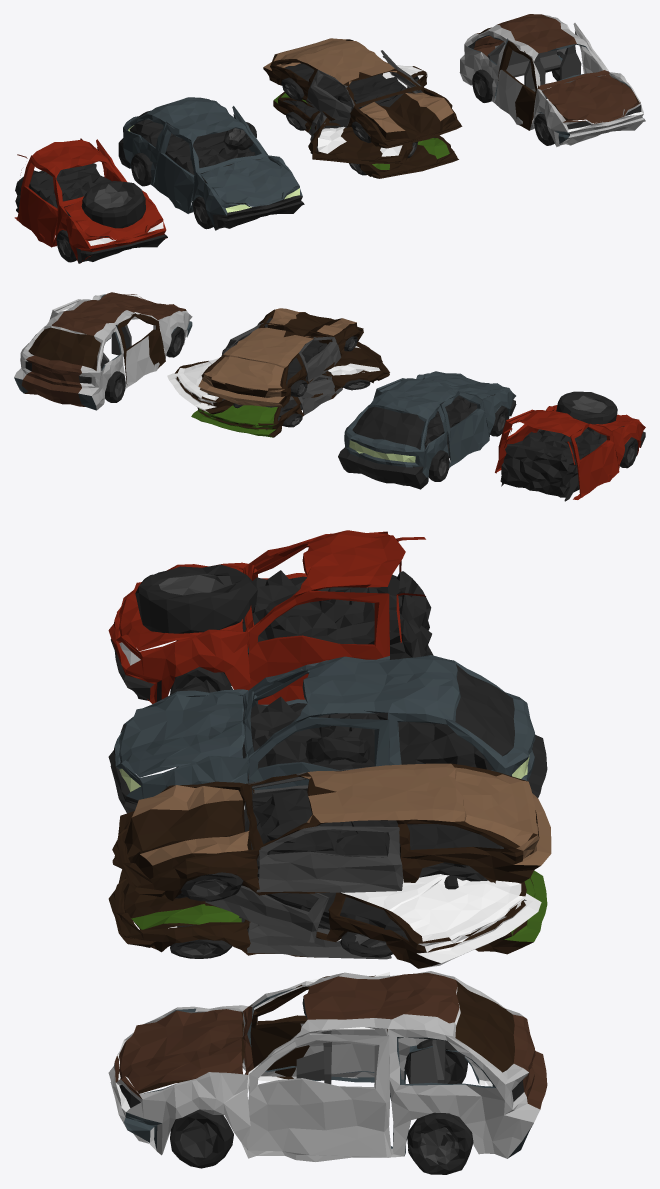
Rendered from new_Cars.fbx.
The picture shows the model from 3 angles, top to bottom: view 1: azimuth 30°, elevation 25°; view 2: azimuth 150°, elevation 25°; view 3: azimuth 270°, elevation 25°; orthographic projection. The views are drawn at different scales.
Parts seen in each view (by area): view 1: Cube.023, Cube, Cube.012, Cube.019, Cube.022, Cube.003, Cube.015, Cube.021, Cube.001, Cylinder.023, Cube.017, Cube.002 (+17 smaller); view 2: Cube.023, Cube, Cube.012, Cube.016, Cube.017, Cube.008, Cube.004, Cube.019, Cube.021, Cube.002, Cylinder.023, Cube.015 (+14 smaller); view 3: Cube.023, Cube.012, Cube, Cube.021, Cube.019, Cube.008, Cube.016, Cube.015, Cube.003, Cube.022, Cube.013, Cube.014 (+18 smaller).
Part boxes in pixels (x1,y1,x2,y2): Cube.023: (459, 14, 645, 147); Cube: (118, 97, 304, 230); Cube.012: (263, 38, 462, 148); Cube.019: (14, 138, 167, 263); Cube.022: (542, 74, 639, 123); Cube.003: (201, 157, 297, 206); Cube.015: (359, 92, 454, 139); Cube.021: (494, 23, 608, 130); Cube.001: (129, 119, 259, 204); Cylinder.023: (81, 181, 145, 228); Cube.017: (16, 139, 127, 247); Cube.002: (153, 106, 266, 213); Cube.023: (14, 294, 192, 410); Cube: (338, 373, 516, 489); Cube.012: (198, 309, 363, 407); Cube.016: (500, 428, 606, 501); Cube.017: (495, 409, 619, 497); Cube.008: (167, 341, 389, 414); Cube.004: (191, 387, 342, 437); Cube.019: (504, 405, 645, 499); Cube.021: (49, 299, 165, 387); Cube.002: (373, 378, 489, 465); Cylinder.023: (556, 391, 617, 430); Cube.015: (267, 308, 357, 344); Cube.023: (108, 971, 547, 1161); Cube.012: (112, 763, 551, 900); Cube: (108, 655, 547, 813); Cube.021: (247, 975, 391, 1157); Cube.019: (108, 530, 425, 703); Cube.008: (112, 856, 541, 968); Cube.016: (177, 570, 433, 685); Cube.015: (124, 785, 251, 879); Cube.003: (119, 693, 244, 777); Cube.022: (119, 1009, 244, 1093); Cube.013: (241, 789, 503, 885); Cube.014: (244, 765, 403, 892).
Size of the model in its own units: 458 by 68.56 by 161.
1 material, 1 textured.
